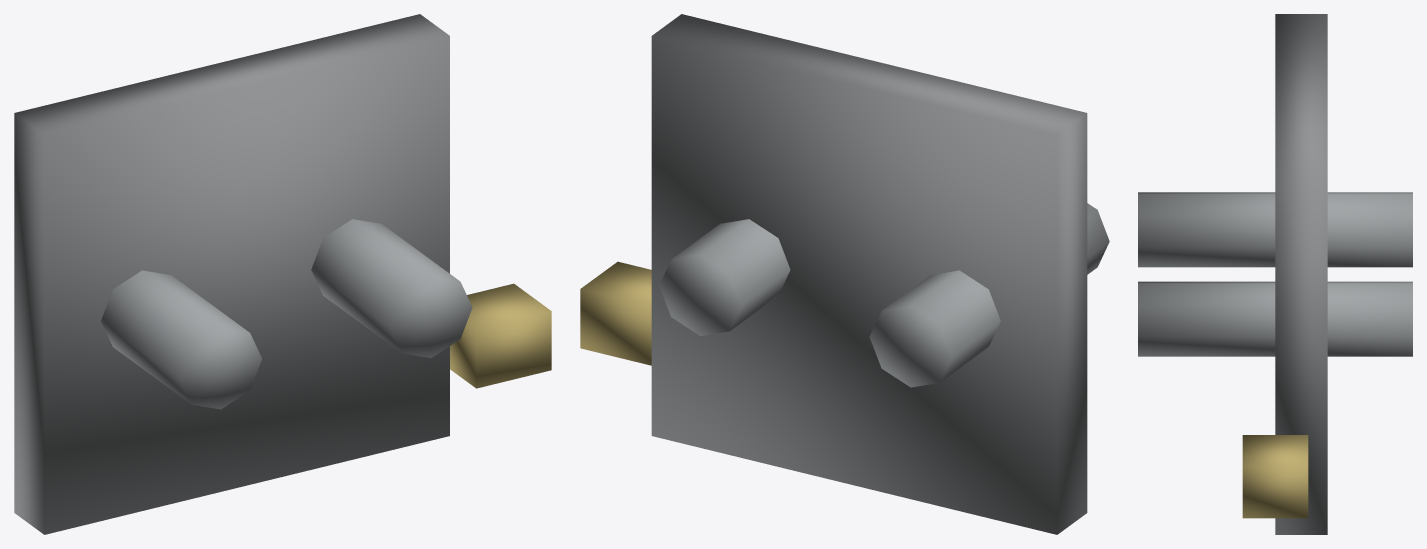
File: pipe_penetration_11.glb
The picture shows the model from 3 angles, left to right: view 1: azimuth 30°, elevation 25°; view 2: azimuth 150°, elevation 25°; view 3: azimuth 270°, elevation 25°; orthographic projection. The views are drawn at different scales.
Visible parts, largest first — view 1: world; view 2: world; view 3: world.
Part boxes in pixels (x1=…): world: x1=14, y1=14, x2=551, y2=534; world: x1=580, y1=14, x2=1109, y2=534; world: x1=1138, y1=14, x2=1412, y2=534.
Bounding box in the file's own units: 0.676 × 0.5292 × 0.378.
